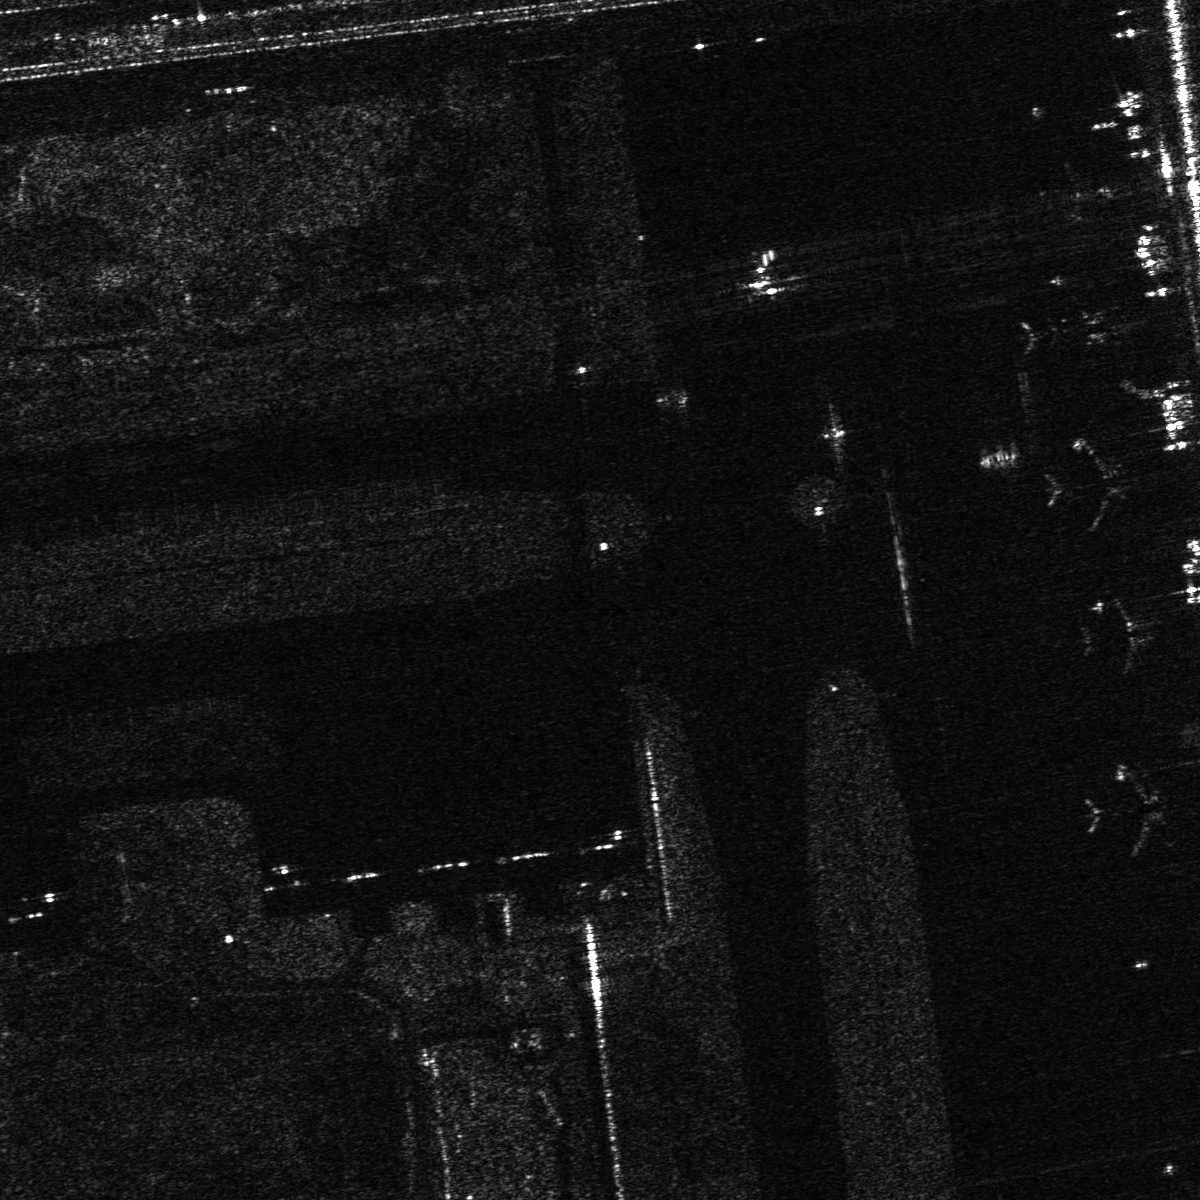Boeing787: (1074, 754, 1188, 866), (1045, 436, 1152, 535), (1027, 280, 1126, 364), (1082, 593, 1160, 682)
other: (1033, 162, 1116, 227), (738, 249, 797, 303)
